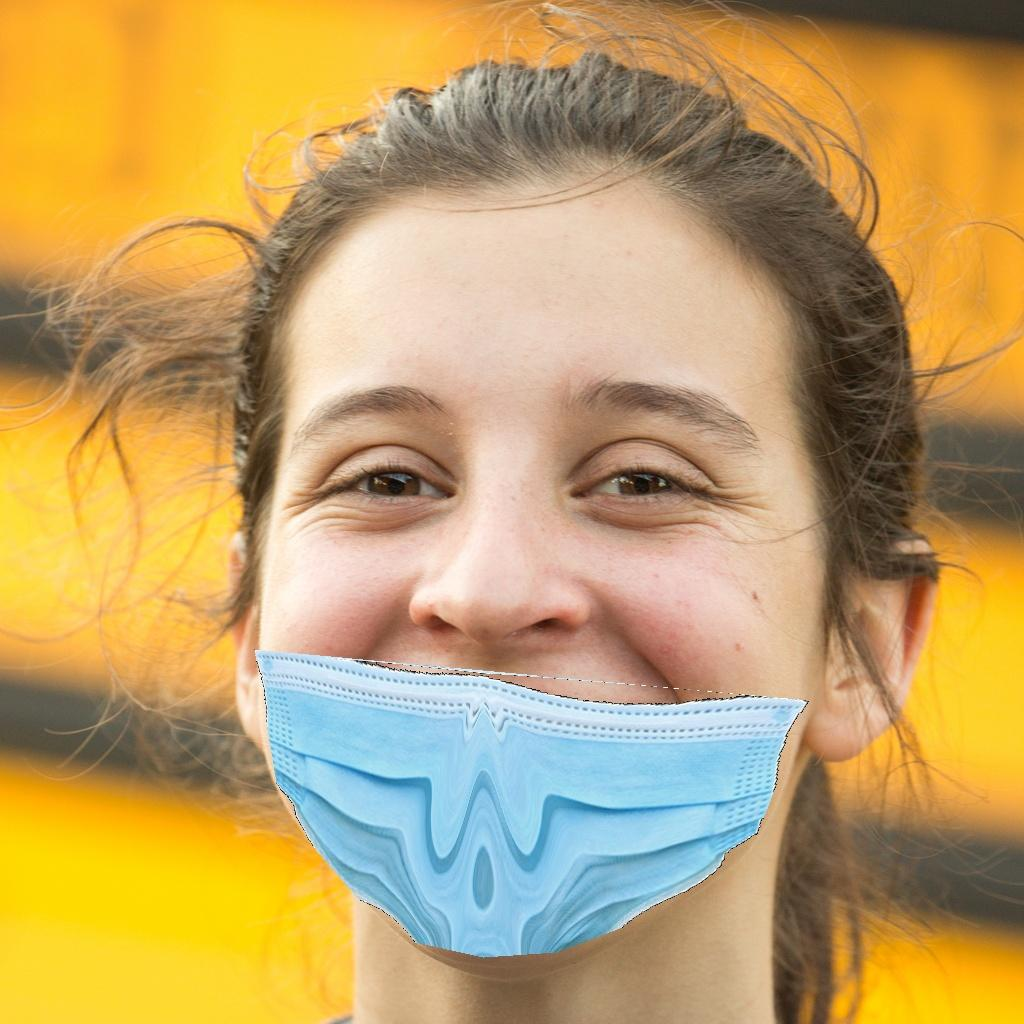Máscara Incorreta: (288, 206, 797, 938)
